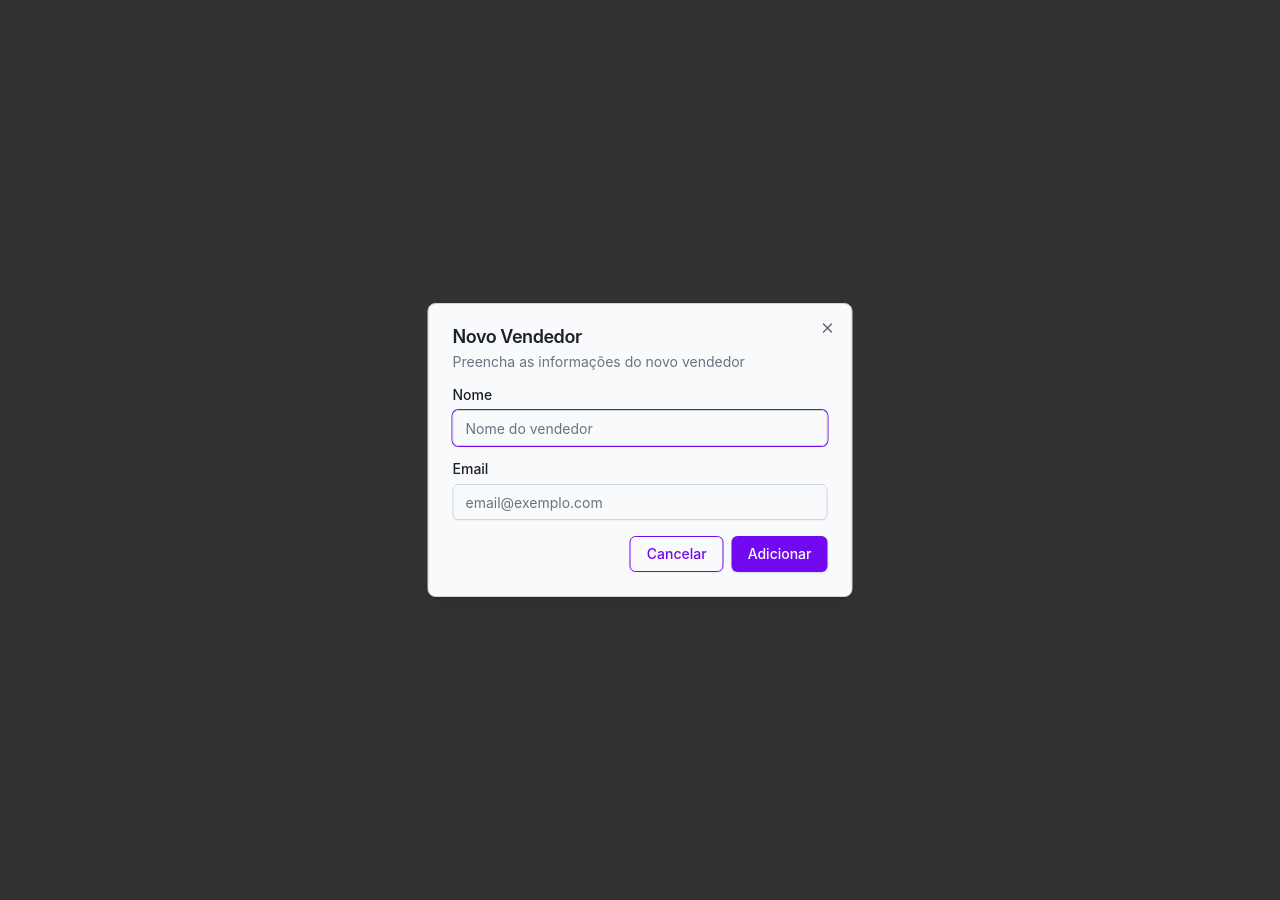
it: FormularioVendedor › validation › deve exibir múltiplos erros quando todos os campos estão vazios
Click the button "Adicionar".
click(780, 554)  # box [732,536,828,572]
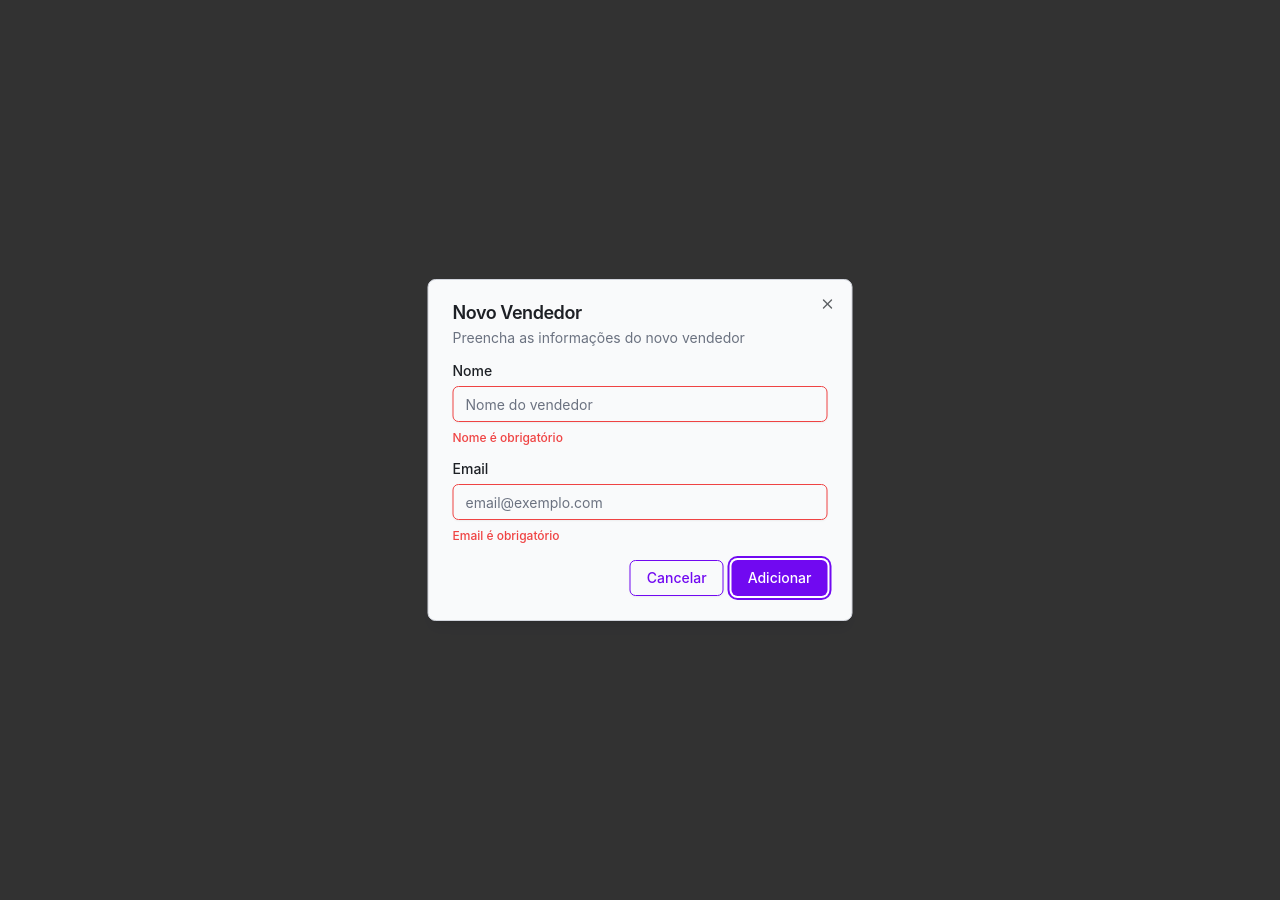
Expected: the text "Nome é obrigatório" is shown, [452,430,563,445]
Expected: the text "Email é obrigatório" is shown, [452,528,560,543]
